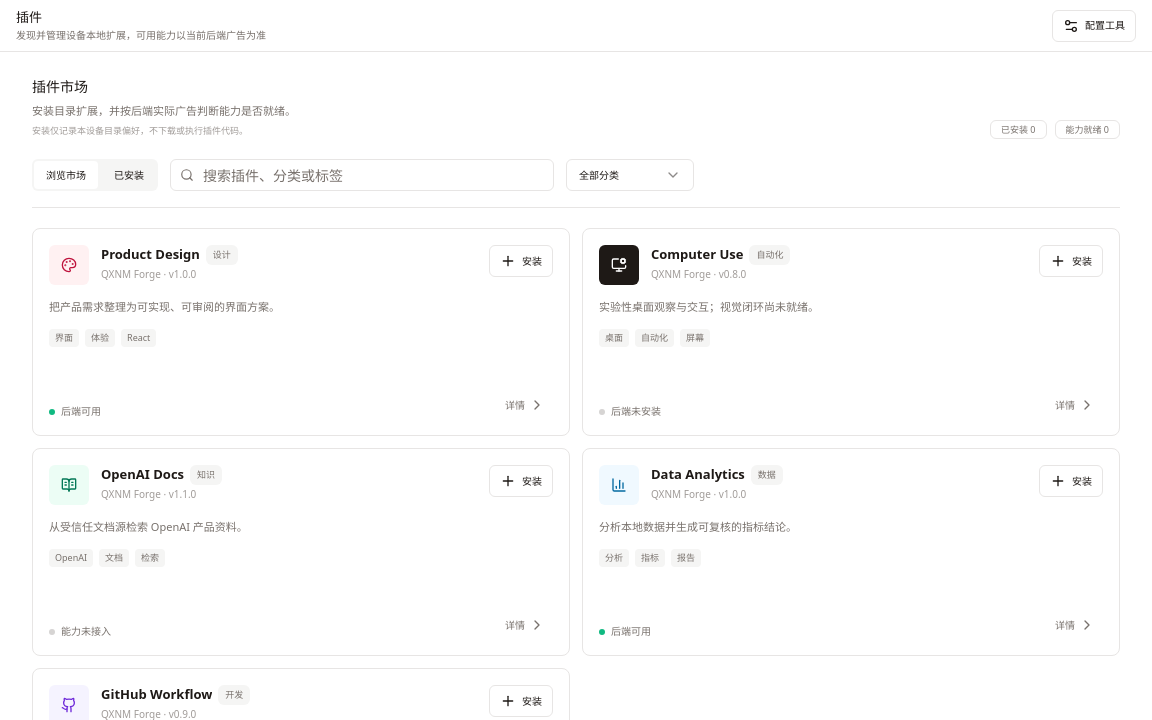
Test: PluginWorkspace › exposes browse and installed views as an accessible toggle group
The width and height of the screenshot is (1152, 720).
Check: the element named "选择插件市场视图" is shown, box [32, 159, 158, 191]
Step 1. Click the radio button labelled "已安装" → {"x": 129, "y": 175}, box [102, 161, 156, 189]
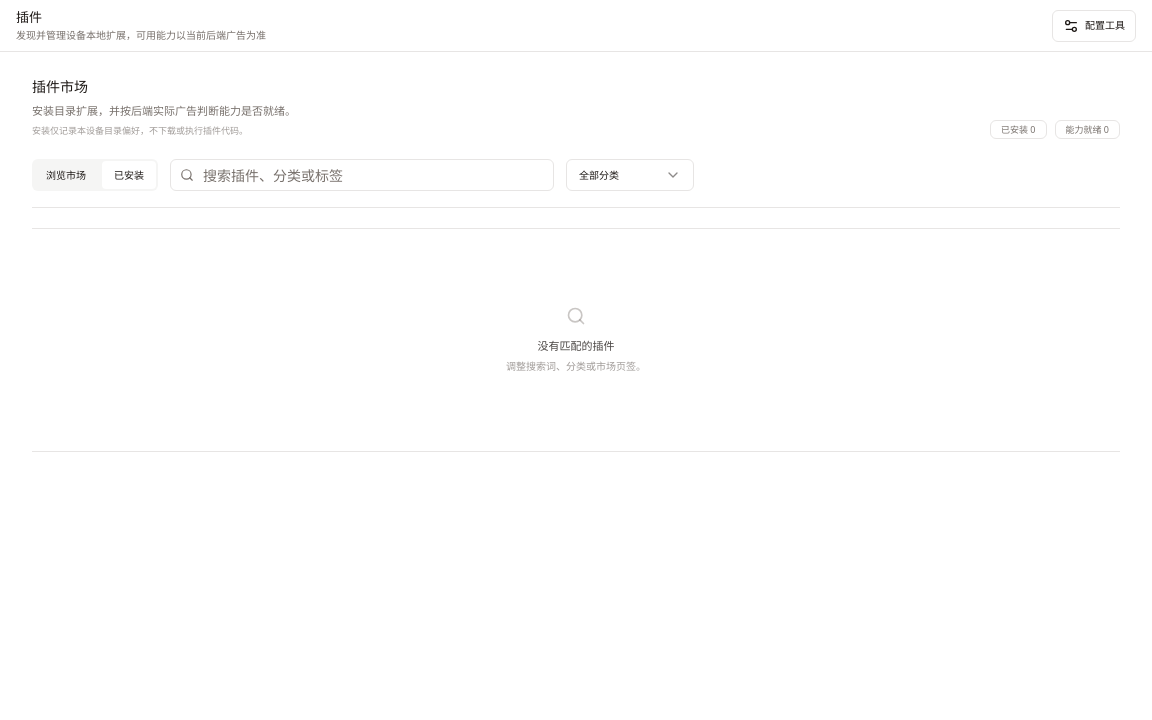
Check: the text "没有匹配的插件" is shown, box [538, 338, 614, 355]
